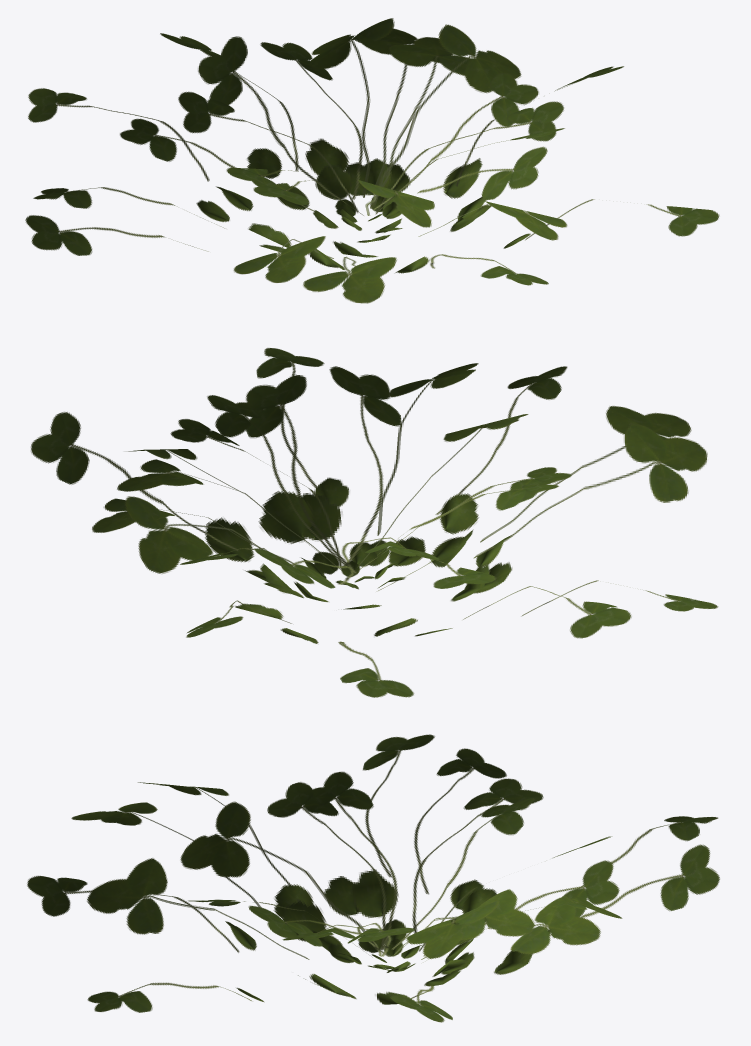
Rendered from WhiteClover_B.glb.
3 renders of one model, top to bottom at view 1: azimuth 30°, elevation 25°; view 2: azimuth 150°, elevation 25°; view 3: azimuth 270°, elevation 25°, orthographic. The views are drawn at different scales.
Parts seen in each view (by area): view 1: LOD0.006; view 2: LOD0.006; view 3: LOD0.006.
Boxes of the visible parts, box(x1,y1,x2,y2) form: LOD0.006: box(25, 18, 719, 303); LOD0.006: box(30, 348, 718, 697); LOD0.006: box(27, 734, 719, 1022).
Size of what is drawn, in the model's own units: 1.32 by 0.2731 by 1.31.
Materials: 1 (1 with a texture image).
